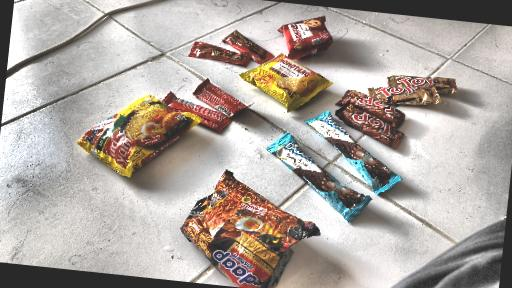chocho: (160, 90, 236, 136), (194, 76, 252, 124), (221, 29, 277, 68), (185, 39, 254, 70)
dilan: (255, 124, 380, 231), (293, 108, 412, 199)
indomie: (71, 93, 210, 182)
mie sedap: (176, 159, 307, 288)
momotaro: (236, 49, 338, 115), (274, 14, 343, 59)
top: (335, 101, 413, 155), (337, 87, 412, 132), (367, 79, 445, 111), (387, 70, 460, 97)
